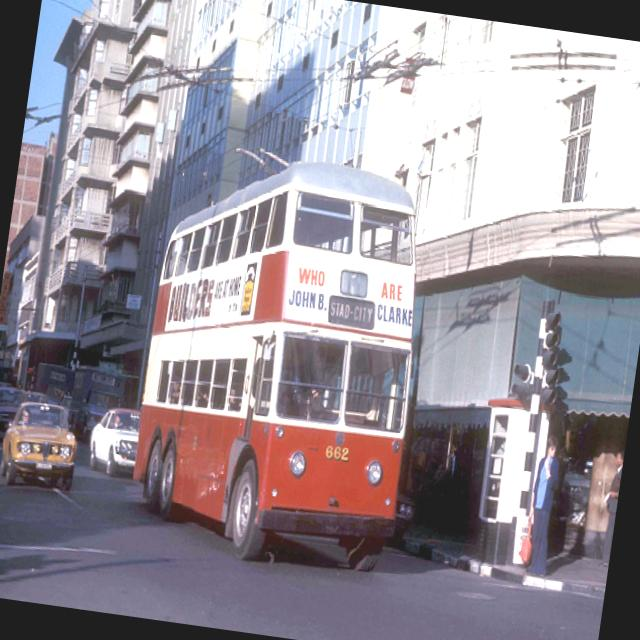Vehicle: (126, 134, 442, 550), (0, 396, 83, 495), (83, 403, 141, 485), (381, 489, 418, 547), (0, 384, 29, 441)
